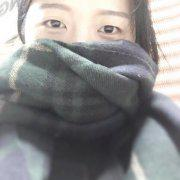OK: (30, 2, 141, 113)
